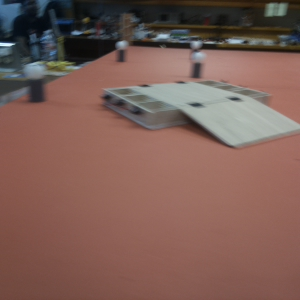corner: (116, 11, 133, 37)
obstacle: (27, 63, 46, 103), (112, 41, 131, 62), (191, 53, 205, 76), (188, 37, 204, 53)
side: (98, 86, 161, 127), (200, 78, 262, 96)
slope: (180, 99, 285, 146)
